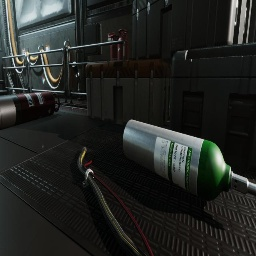0: (123, 120, 256, 201)
NitrogenTank ,: (0, 91, 60, 130), (117, 29, 129, 61), (110, 34, 119, 60)
